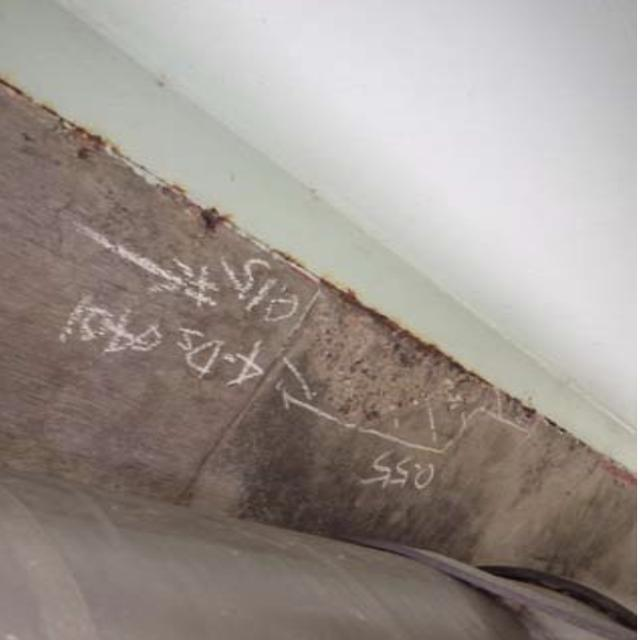spalling: (299, 278, 494, 452)
